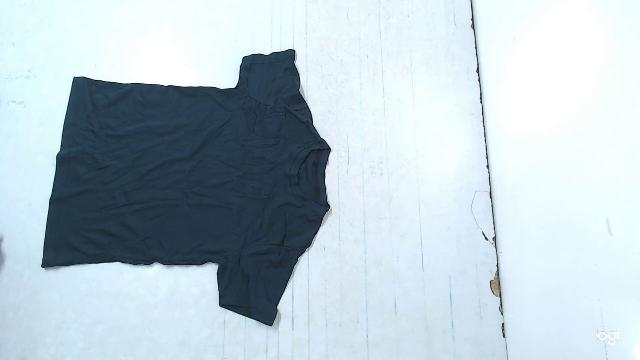new-garment: (42, 49, 330, 325)
